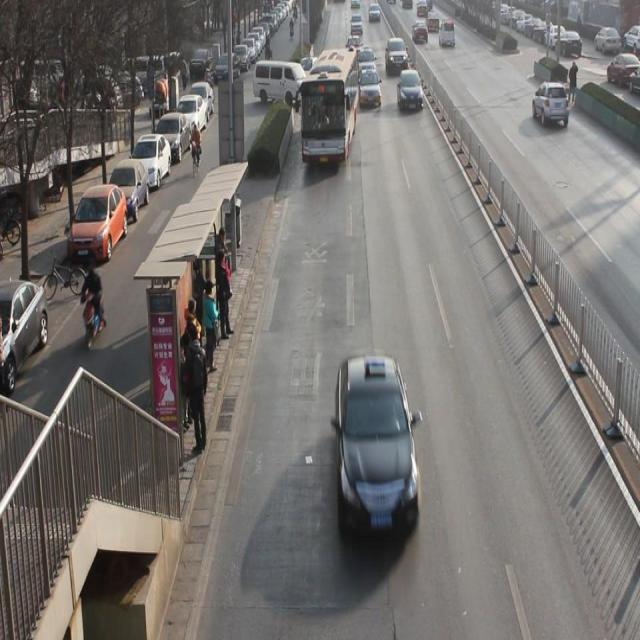car: (334, 356, 426, 540), (535, 83, 569, 130), (399, 72, 425, 112), (386, 40, 409, 77), (358, 51, 376, 82), (302, 55, 319, 85), (347, 34, 363, 60), (413, 21, 428, 44)
truck: (361, 72, 382, 106), (439, 20, 456, 49)
van: (301, 50, 358, 168)
